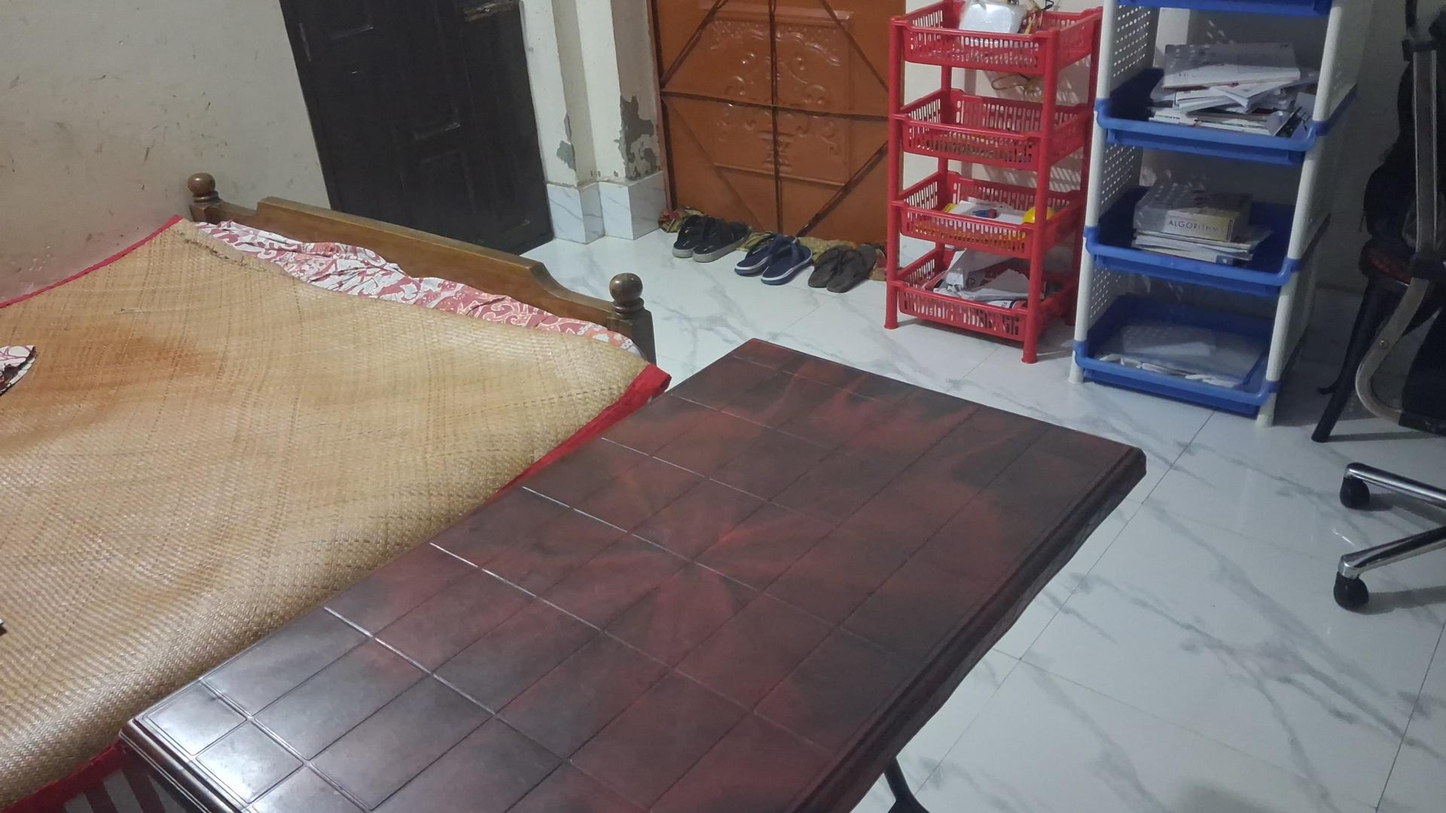Footwear: (733, 230, 810, 284), (673, 214, 751, 262), (809, 241, 878, 292)
Rack: (1074, 0, 1367, 430), (885, 8, 1099, 362)
Table: (121, 340, 1146, 813)
